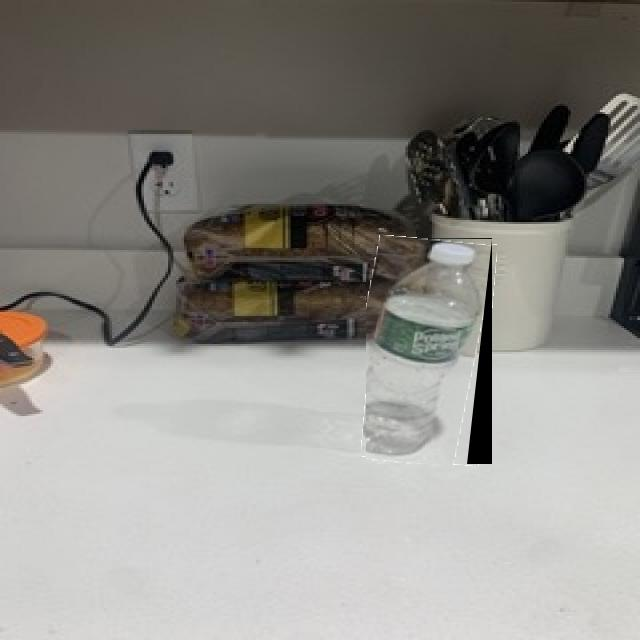water_bottle: (366, 238, 492, 464)
